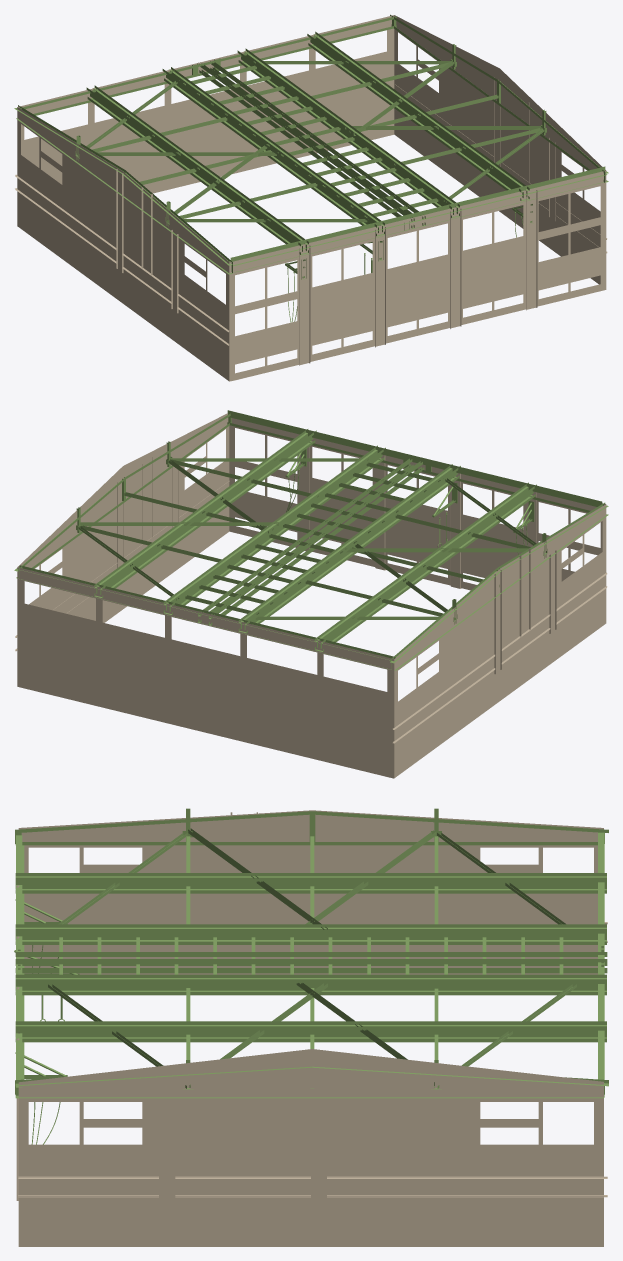
File: WallTest.fbx
The picture shows the model from 3 angles, top to bottom: view 1: azimuth 30°, elevation 25°; view 2: azimuth 150°, elevation 25°; view 3: azimuth 270°, elevation 25°; orthographic projection. The views are drawn at different scales.
Visible parts, largest first — view 1: Walls1, beams; view 2: Walls1, beams; view 3: Walls1, beams.
Part boxes in pixels (x1,y1,x2,y2): Walls1: [15, 15, 607, 381]; beams: [14, 14, 608, 322]; Walls1: [15, 413, 607, 778]; beams: [14, 410, 608, 670]; Walls1: [16, 810, 607, 1246]; beams: [14, 808, 608, 1144].
Size of the model in its own units: 325 by 118 by 319.
